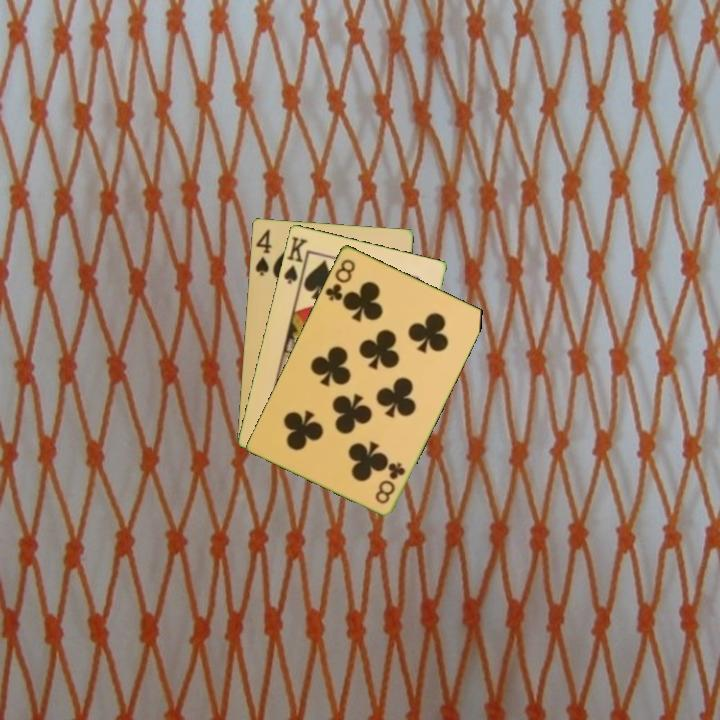4s: (252, 225, 274, 278)
8c: (321, 255, 358, 304), (371, 458, 408, 506)
Ks: (280, 233, 310, 287)
